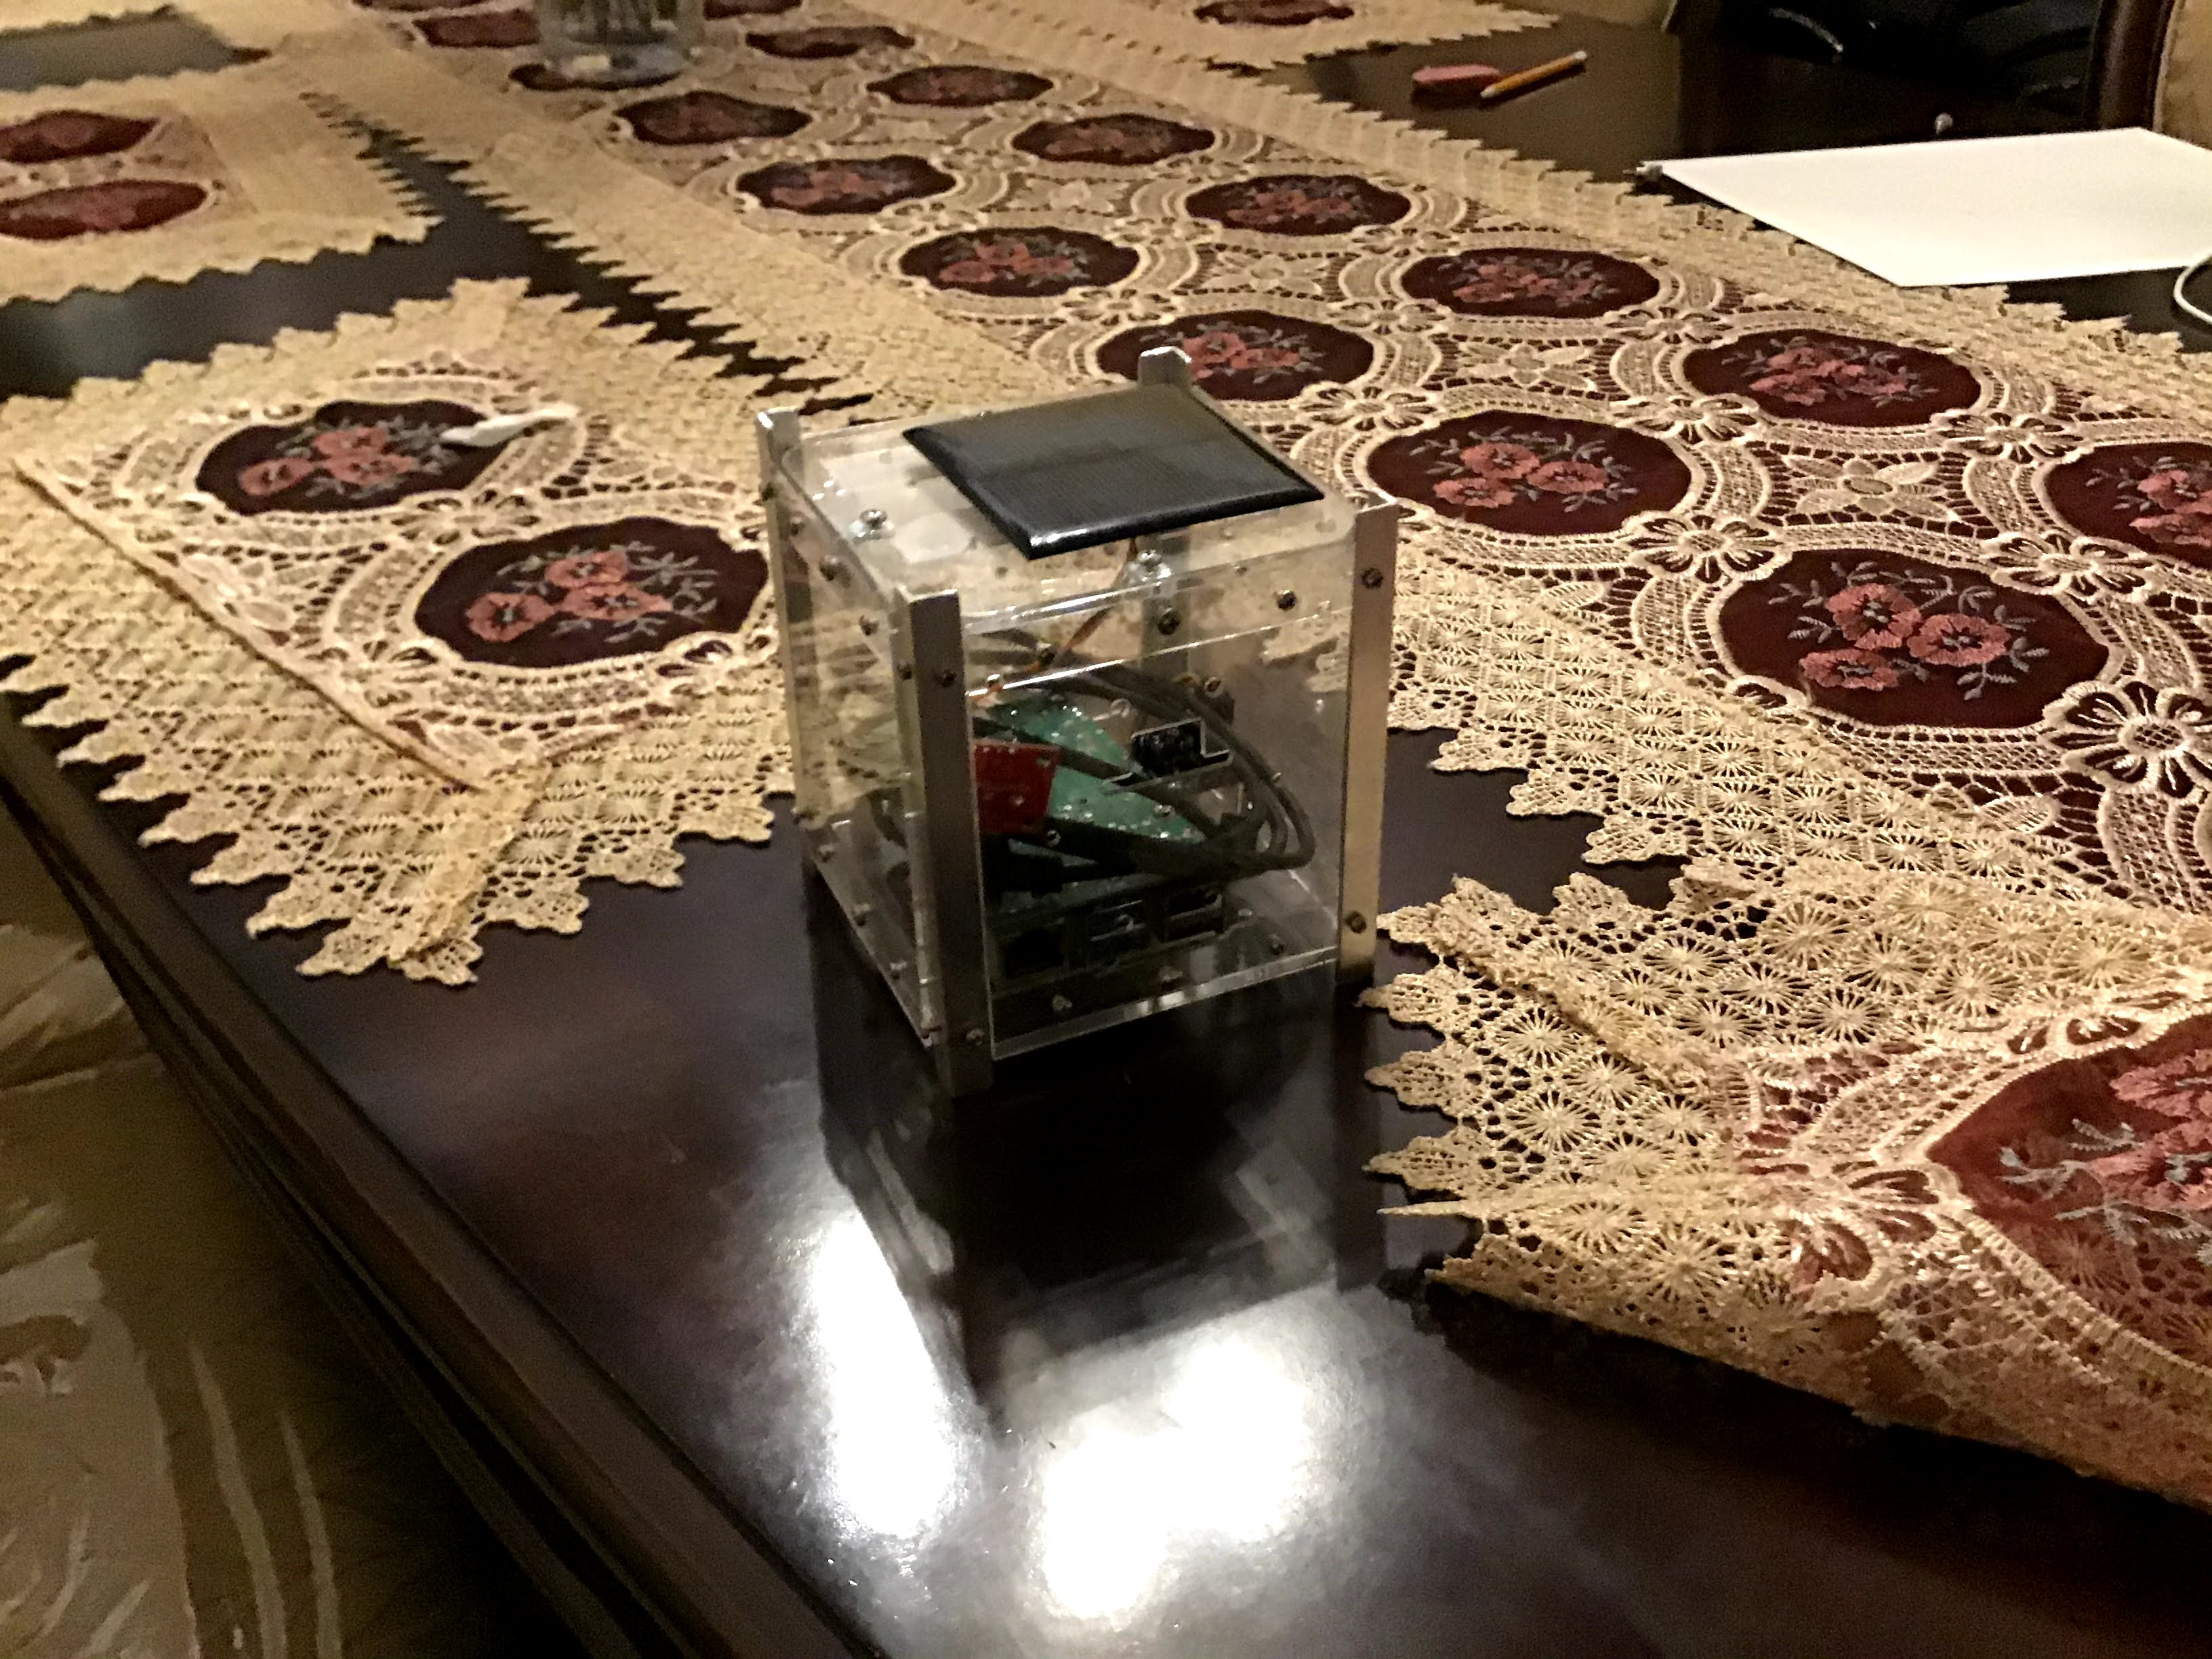Space-debris-cubesat: (730, 326, 1414, 1094)
